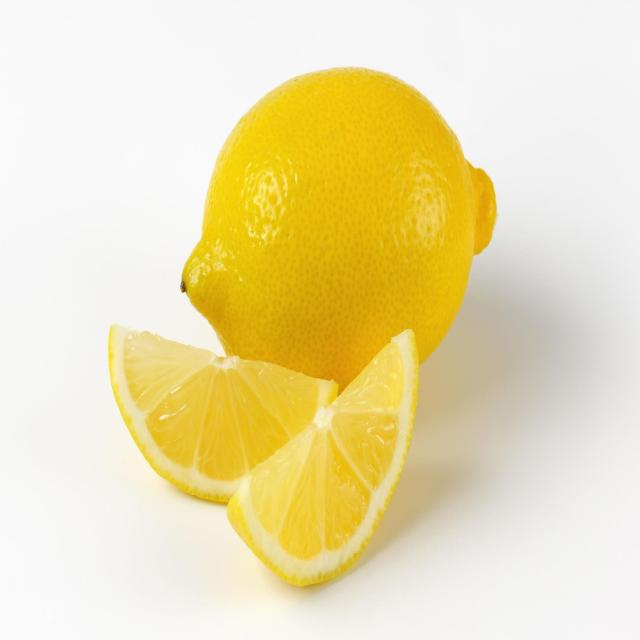lemon: (175, 55, 500, 397), (100, 314, 421, 594)
